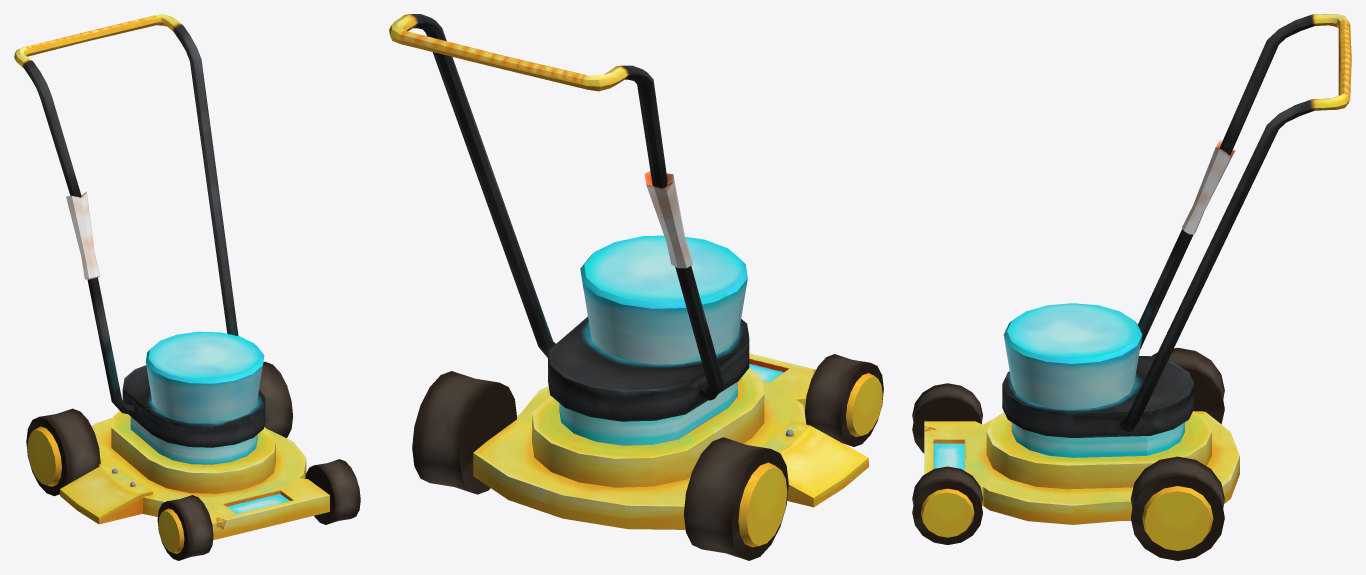
The model's file is LawnMower.fbx.
The picture shows the model from 3 angles, left to right: view 1: azimuth 30°, elevation 25°; view 2: azimuth 150°, elevation 25°; view 3: azimuth 270°, elevation 25°; orthographic projection. The views are drawn at different scales.
Visible parts, largest first — view 1: LawnMower; view 2: LawnMower; view 3: LawnMower.
Boxes of the visible parts, <box> form: LawnMower: <box>14,14,360,560</box>; LawnMower: <box>389,14,883,560</box>; LawnMower: <box>912,14,1351,560</box>.
Size of the model in its own units: 66.85 by 99.39 by 89.37.
